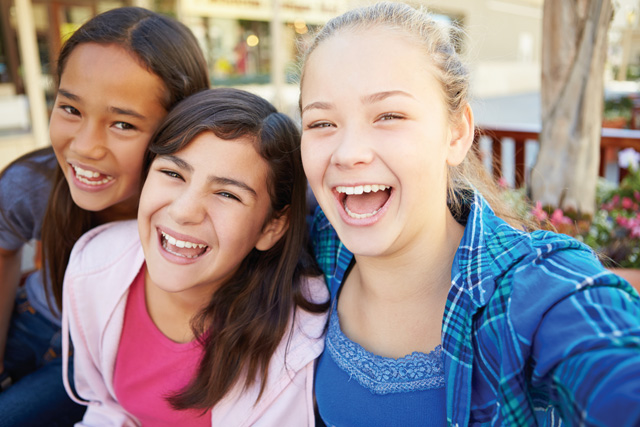Person: (294, 8, 640, 424), (129, 87, 314, 427), (5, 8, 155, 220)
